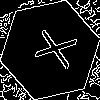X: (25, 25, 77, 70)
